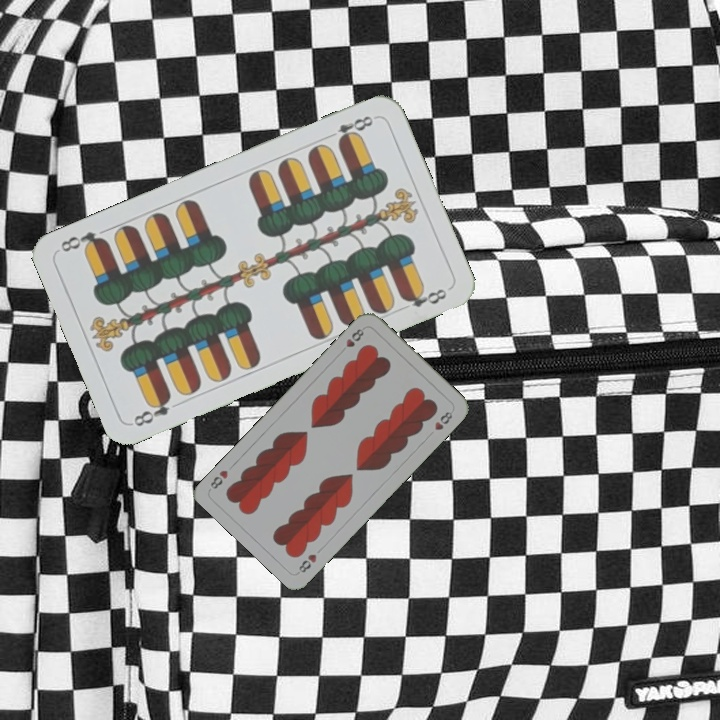E8: (322, 111, 376, 147), (129, 390, 174, 429)
H8: (294, 550, 319, 576), (342, 324, 366, 350)
